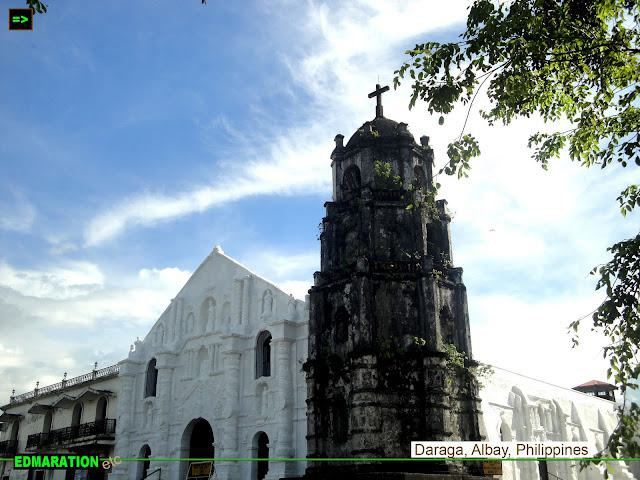daraga_church_daraga_albay: (118, 80, 479, 477)
vegetation_damage: (371, 158, 407, 190), (417, 186, 447, 224), (441, 339, 468, 376)
